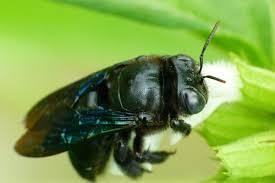Xylocopa: (10, 21, 226, 181)
